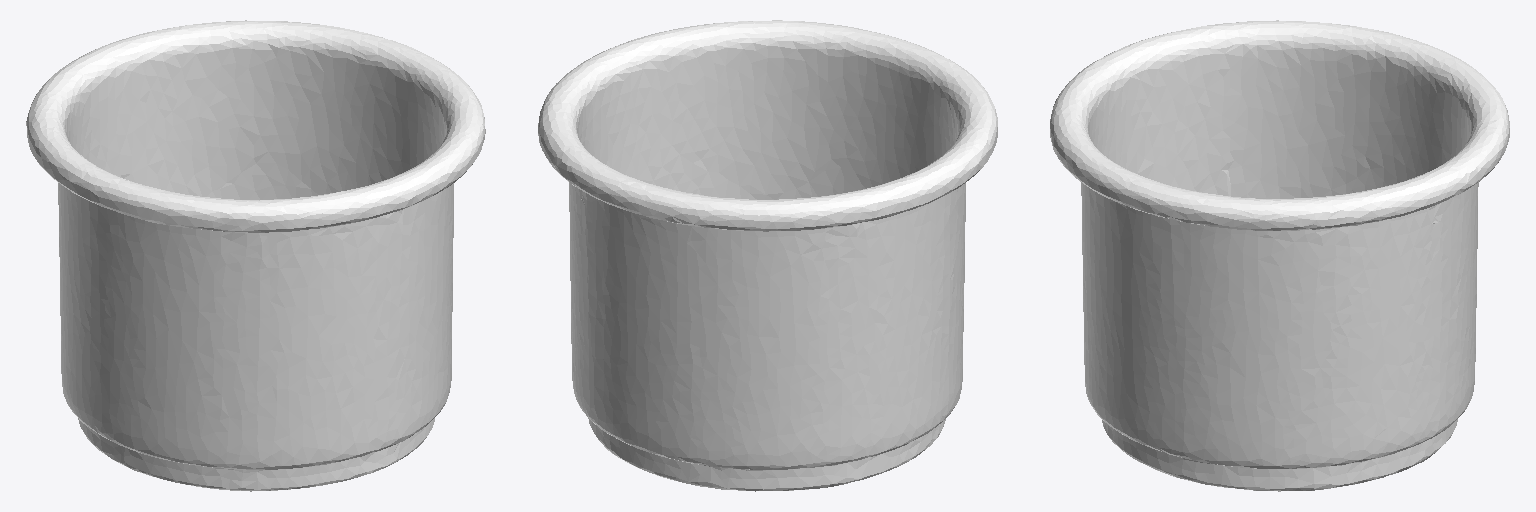
robot.urdf — j_cups:
<robot name="j_cups">
    <link name="base_link">
        <visual>
            <origin xyz="-0.0 0.0 0.0" rpy="0.0 0.0 0.0" />
            <geometry>
                <mesh filename="j_cups/textured.obj" scale="1 1 1" />
            </geometry>
            <material name="texture">
                <color rgba="1.0 1.0 1.0 1.0" />
            </material>
        </visual>
        <collision>
            <origin xyz="-0.0 0.0 0.0" rpy="0.0 0.0 0.0" />
            <geometry>
                <mesh filename="j_cups/textured_coacd_0.stl" scale="1 1 1" />
            </geometry>
        </collision>
        <collision>
            <origin xyz="-0.0 0.0 0.0" rpy="0.0 0.0 0.0" />
            <geometry>
                <mesh filename="j_cups/textured_coacd_1.stl" scale="1 1 1" />
            </geometry>
        </collision>
        <collision>
            <origin xyz="-0.0 0.0 0.0" rpy="0.0 0.0 0.0" />
            <geometry>
                <mesh filename="j_cups/textured_coacd_2.stl" scale="1 1 1" />
            </geometry>
        </collision>
        <collision>
            <origin xyz="-0.0 0.0 0.0" rpy="0.0 0.0 0.0" />
            <geometry>
                <mesh filename="j_cups/textured_coacd_3.stl" scale="1 1 1" />
            </geometry>
        </collision>
        <collision>
            <origin xyz="-0.0 0.0 0.0" rpy="0.0 0.0 0.0" />
            <geometry>
                <mesh filename="j_cups/textured_coacd_4.stl" scale="1 1 1" />
            </geometry>
        </collision>
        <inertial>
            <mass value="0.038" />
            <inertia ixx="1e-3" ixy="0.0" ixz="0.0" iyy="1e-3" iyz="0.0" izz="1e-3" />
        </inertial>
    </link>
</robot>

--- Render facts (derived) ---
3 views of the same robot in one strip: view 1: azimuth 30°, elevation 25°; view 2: azimuth 150°, elevation 25°; view 3: azimuth 270°, elevation 25° (orthographic).
Robot: j_cups — 1 links, 0 joints (none); root link base_link; default pose: all joints at 0.
Visible links, largest first — view 1: base_link; view 2: base_link; view 3: base_link.
Link boxes in pixels (x1,y1,x2,y2): base_link: [26, 20, 485, 491]; base_link: [538, 20, 997, 491]; base_link: [1050, 20, 1509, 491].
Size in the robot's own frame: 0.1023 by 0.1027 by 0.0754 metres.
1 mesh visuals loaded from 1 distinct referenced files (1 OBJ).